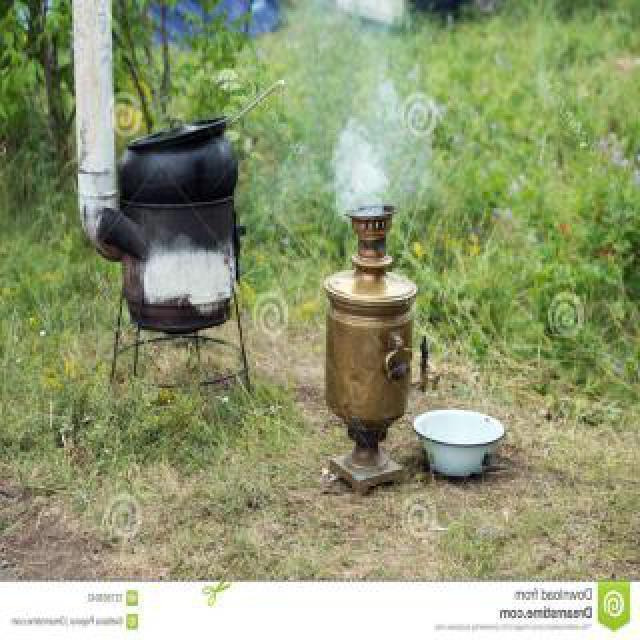Smoke: (330, 54, 434, 226)
